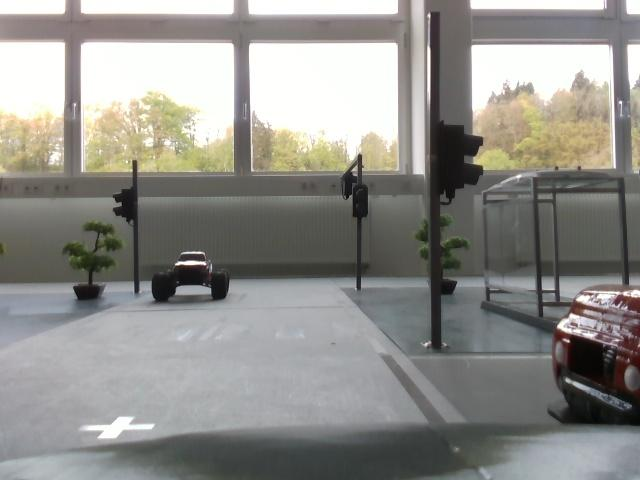car: (550, 276, 640, 427), (147, 246, 234, 305)
potted plant: (67, 218, 132, 307), (417, 208, 471, 292)
traffic light: (432, 126, 483, 195), (115, 186, 142, 224), (352, 186, 376, 223), (342, 169, 363, 201)
